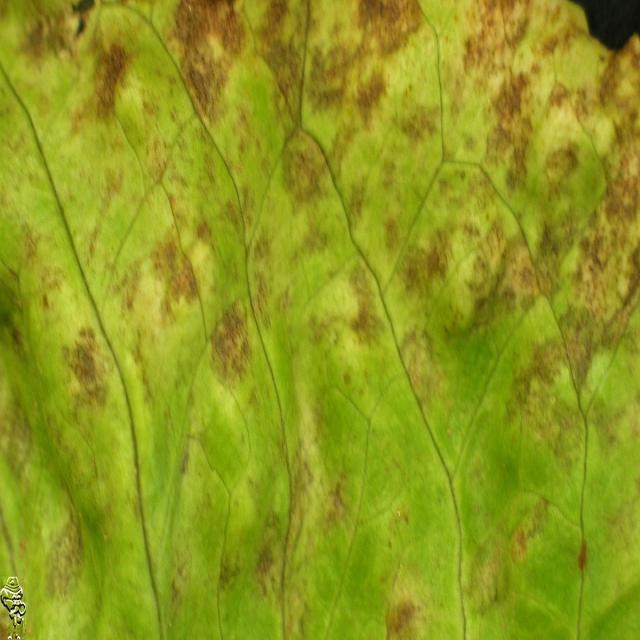Septoria_Blight_on_lettuce: (24, 19, 633, 533)
